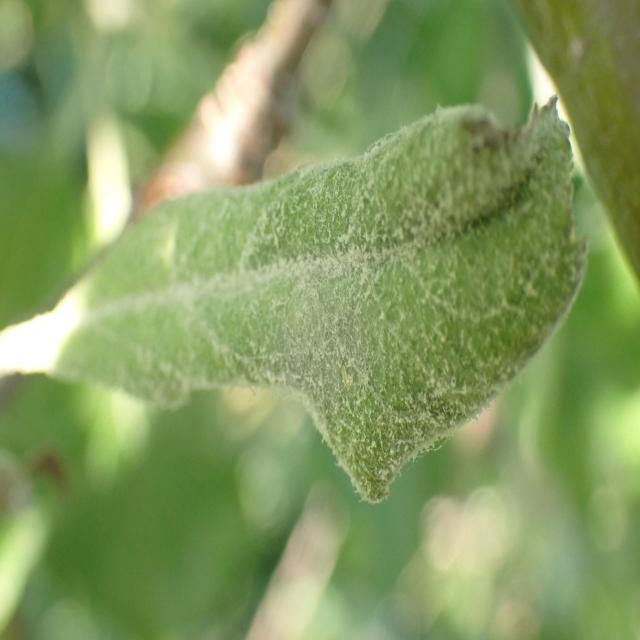Powdery_mildew: (49, 96, 599, 506)
